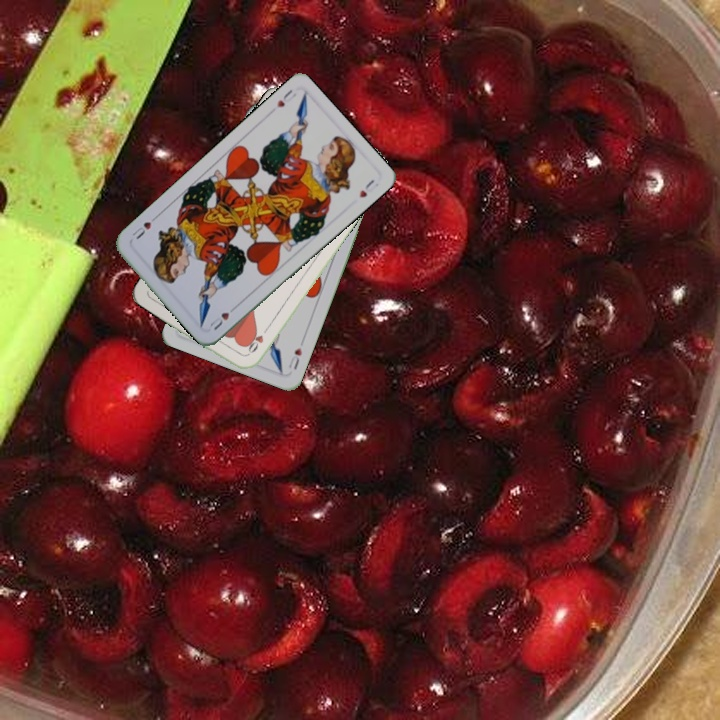HO: (242, 323, 271, 359)
HU: (205, 301, 239, 333), (284, 336, 306, 372), (272, 85, 299, 110)
